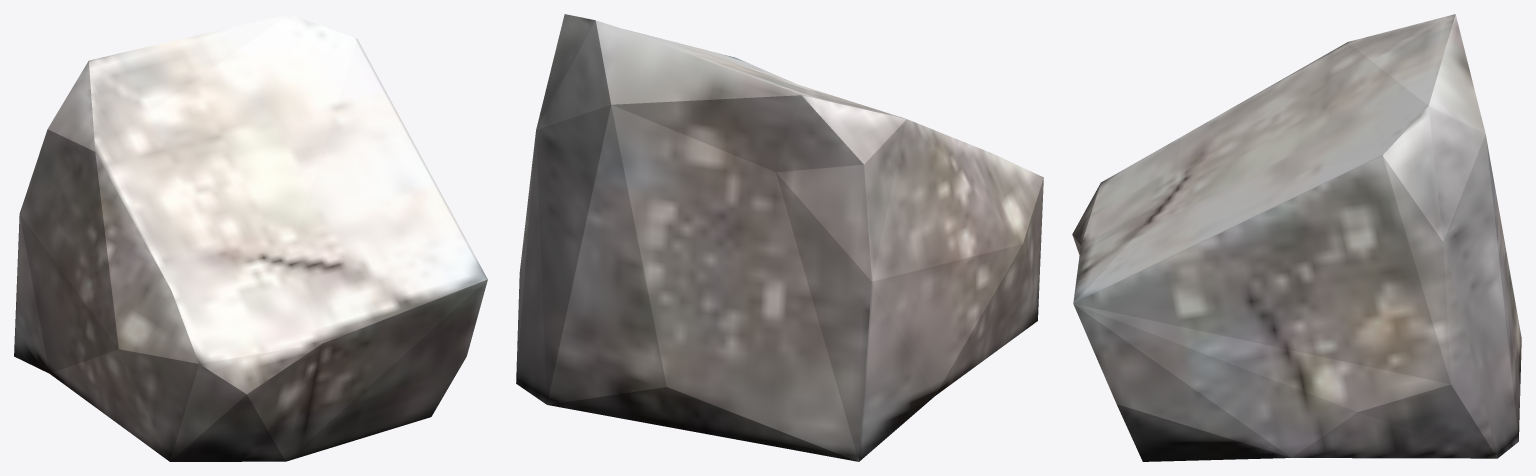
Rendered from ga3_rock_b_lod1.glb.
3 views of the same model, side by side, from view 1: azimuth 30°, elevation 25°; view 2: azimuth 150°, elevation 25°; view 3: azimuth 270°, elevation 25° (orthographic). The views are drawn at different scales.
Visible parts, largest first — view 1: ga3_rock_b_lod1; view 2: ga3_rock_b_lod1; view 3: ga3_rock_b_lod1.
Boxes of the visible parts, x1=… form: ga3_rock_b_lod1: x1=14, y1=14, x2=487, y2=461; ga3_rock_b_lod1: x1=516, y1=14, x2=1043, y2=461; ga3_rock_b_lod1: x1=1072, y1=14, x2=1521, y2=461.
Size of the model in its own units: 0.9263 by 0.8502 by 0.994.
Materials: 1 (1 with a texture image).
